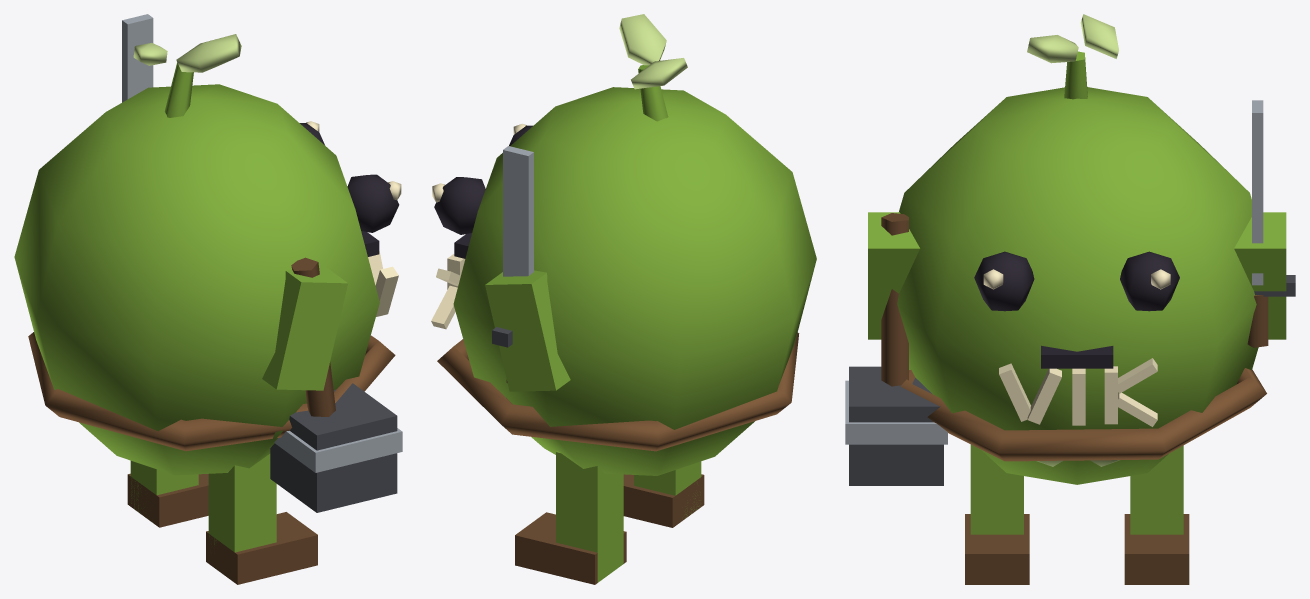
The model's file is enemy_normal.glb.
The picture shows the model from 3 angles, left to right: view 1: azimuth 30°, elevation 25°; view 2: azimuth 150°, elevation 25°; view 3: azimuth 270°, elevation 25°; orthographic projection. The views are drawn at different scales.
Visible parts, largest first — view 1: body, hammer_head, strap, arm_l_mesh, leg_l_mesh, foot_l, hammer_band, foot_r, eye_l, sword_blade, sprout_leaf, leg_r_mesh (+4 smaller); view 2: body, strap, arm_r_mesh, leg_r_mesh, sword_blade, foot_r, foot_l, eye_r, sprout_leaf, leg_l_mesh, sprout_leaf_b, sprout_stem (+1 smaller); view 3: body, strap, hammer_head, leg_l_mesh, leg_r_mesh, arm_r_mesh, arm_l_mesh, foot_r, foot_l, hammer_haft, hammer_band, eye_l (+13 smaller).
Part boxes in pixels (bbox=[...]): body: bbox=[14, 84, 379, 475]; hammer_head: bbox=[270, 383, 397, 512]; strap: bbox=[28, 332, 395, 451]; arm_l_mesh: bbox=[262, 264, 347, 390]; leg_l_mesh: bbox=[208, 454, 276, 552]; foot_l: bbox=[206, 512, 317, 584]; hammer_band: bbox=[274, 428, 402, 472]; foot_r: bbox=[127, 473, 208, 527]; eye_l: bbox=[347, 174, 399, 232]; sword_blade: bbox=[122, 14, 153, 102]; sprout_leaf: bbox=[176, 34, 241, 72]; leg_r_mesh: bbox=[130, 461, 198, 522]; body: bbox=[453, 87, 816, 475]; strap: bbox=[437, 332, 799, 451]; arm_r_mesh: bbox=[485, 270, 570, 391]; leg_r_mesh: bbox=[556, 451, 623, 582]; sword_blade: bbox=[503, 146, 533, 276]; foot_r: bbox=[515, 512, 626, 584]; foot_l: bbox=[623, 474, 704, 527]; eye_r: bbox=[434, 177, 485, 234]; sprout_leaf: bbox=[619, 14, 666, 65]; leg_l_mesh: bbox=[634, 461, 701, 518]; sprout_leaf_b: bbox=[631, 58, 687, 89]; sprout_stem: bbox=[638, 65, 668, 121]; body: bbox=[897, 87, 1258, 484]; strap: bbox=[900, 368, 1266, 461]; hammer_head: bbox=[849, 366, 943, 485]; leg_l_mesh: bbox=[970, 444, 1023, 534]; leg_r_mesh: bbox=[1130, 445, 1183, 534]; arm_r_mesh: bbox=[1234, 212, 1286, 339]; arm_l_mesh: bbox=[868, 212, 919, 339]; foot_r: bbox=[1124, 514, 1189, 584]; foot_l: bbox=[965, 514, 1029, 584]; hammer_haft: bbox=[881, 213, 908, 386]; hammer_band: bbox=[845, 380, 947, 444]; eye_l: bbox=[974, 251, 1034, 311].
Bounding box in the file's own units: 0.2061 × 0.3025 × 0.237.
